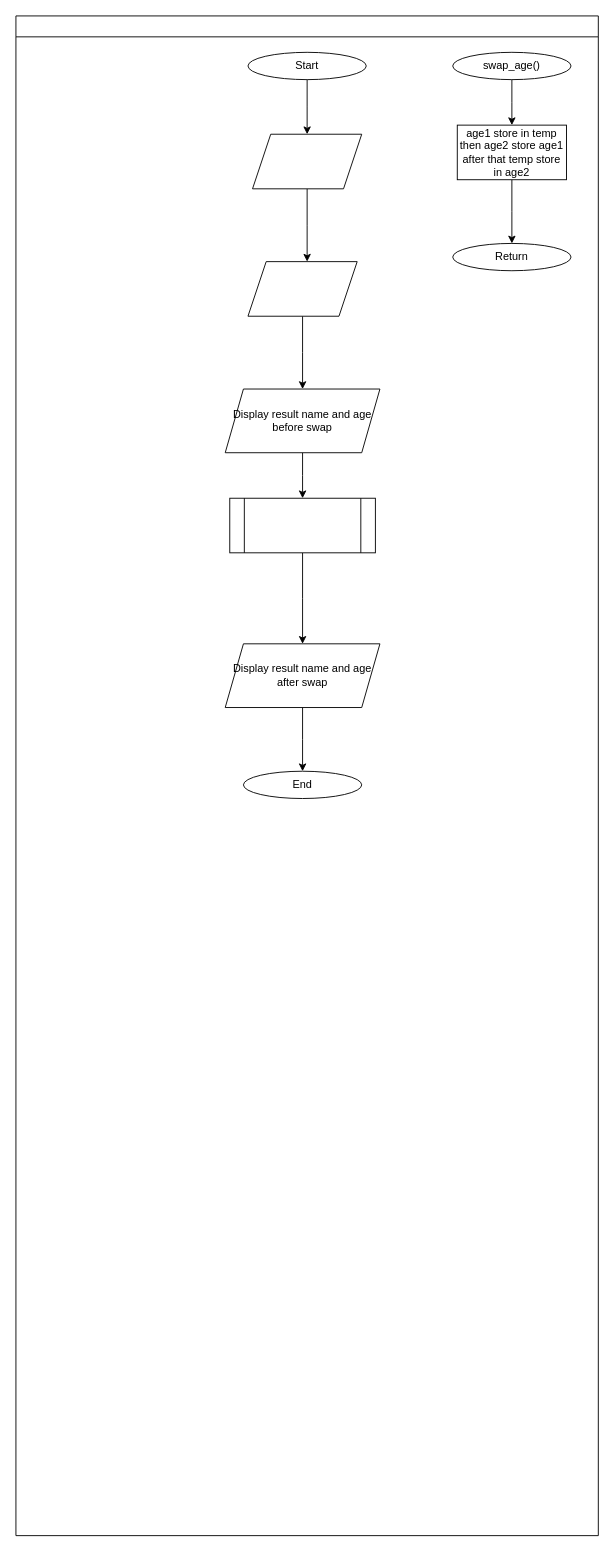
This 614x1552 diagram has some shape labels left out. Each missing label, with the centre of its shape:
Read name1 age1: (307,161)
Read name2 age2: (302,288)
swap_age(age1,age2): (302,525)
